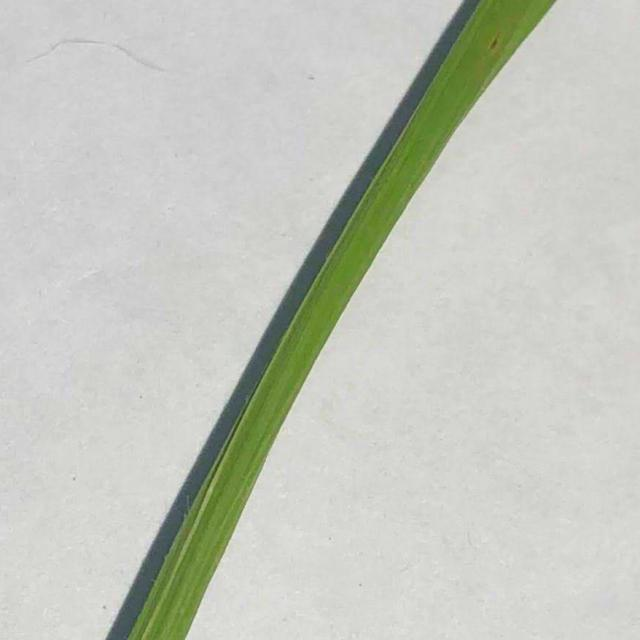brownspots: (486, 34, 504, 54)
